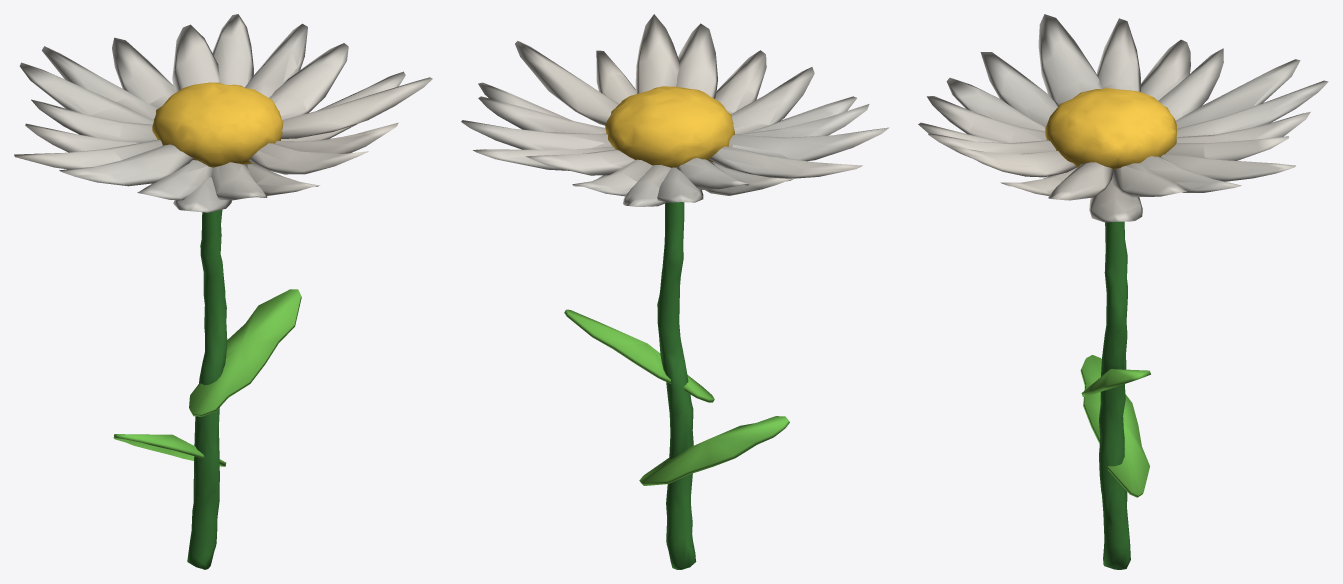
The model's file is glade_flower_daisy_lod1.glb.
The picture shows the model from 3 angles, left to right: view 1: azimuth 30°, elevation 25°; view 2: azimuth 150°, elevation 25°; view 3: azimuth 270°, elevation 25°; orthographic projection. The views are drawn at different scales.
Visible parts, largest first — view 1: glade_flower_daisy.001; view 2: glade_flower_daisy.001; view 3: glade_flower_daisy.001.
Part boxes in pixels (box(x1,y1,x2,y2)): glade_flower_daisy.001: box(14, 14, 432, 569); glade_flower_daisy.001: box(461, 14, 889, 569); glade_flower_daisy.001: box(918, 14, 1328, 569).
Bounding box in the file's own units: 17.3 × 20.02 × 15.62.
